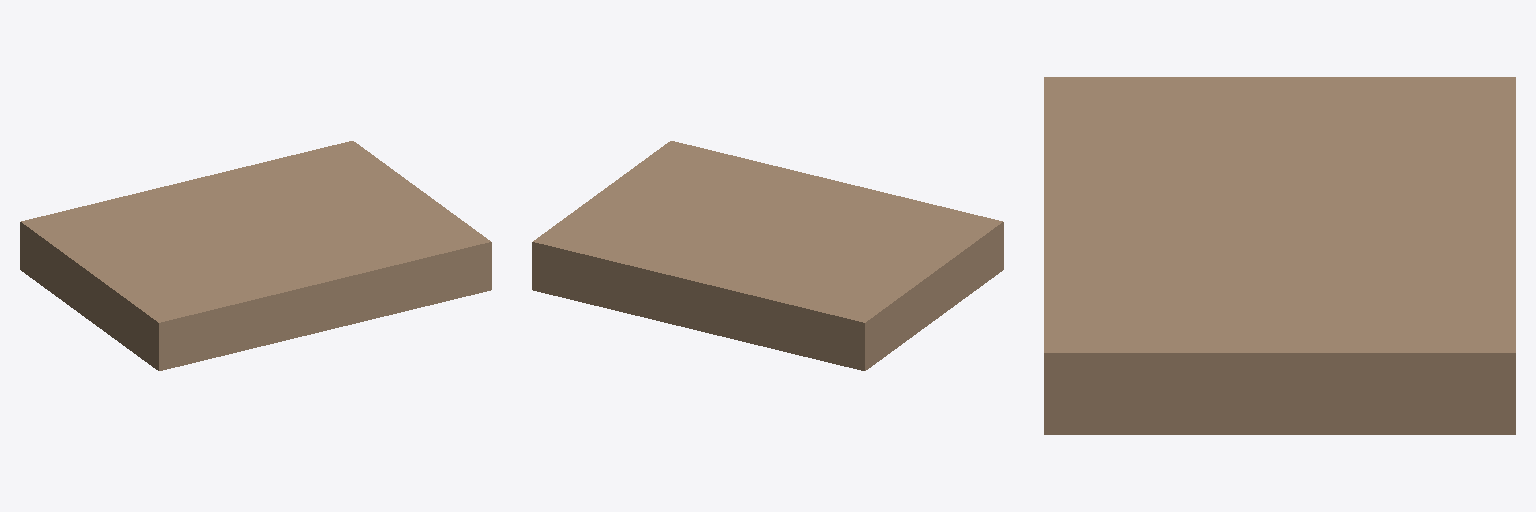
The robot description file, URDF, robot "box.urdf":
<?xml version="1.0" ?>
<robot name="box.urdf">
  <link name="baseLink">
    <contact>
      <lateral_friction value="1.0"/>
      <rolling_friction value="0.0001"/>
      <inertia_scaling value="3.0"/>
    </contact>
    <inertial>
      <origin rpy="0 0 0" xyz="0 0 0"/>
       <mass value="0.1"/>
       <inertia ixx="1" ixy="0" ixz="0" iyy="1" iyz="0" izz="1"/>
    </inertial>
    <visual>
      <origin rpy="0 0 0" xyz="0 0 0"/>
      <geometry>
        <!-- <box size="0.86 0.62 0.12"/> -->
        <mesh filename="box/box.obj" scale="0.86 0.62 0.12"/>
      </geometry>
      <material name="white">
        <color rgba="0.7 0.6 0.5 1"/>
      </material>
    </visual>
    <collision>
      <origin rpy="0 0 0" xyz="0 0 0"/>
      <geometry>
        <mesh filename="box/box.obj" scale="0.86 0.62 0.12"/>
	 	    <!-- <box size="0.86 0.62 0.12"/> -->
      </geometry>
    </collision>
  </link>
</robot>

--- What the picture shows (computed from the rendered views, not written in the file) ---
The picture shows the robot from 3 angles, left to right: view 1: azimuth 30°, elevation 25°; view 2: azimuth 150°, elevation 25°; view 3: azimuth 270°, elevation 25°; orthographic projection.
Model box.urdf with 1 links and 0 joints (none), rooted at baseLink, posed every joint at zero.
Visible links, largest first — view 1: baseLink; view 2: baseLink; view 3: baseLink.
Boxes of the visible links, x1,y1,x2,y2 form: baseLink: (20,141,491,370); baseLink: (532,141,1003,370); baseLink: (1044,77,1515,434).
Size in the robot's own frame: 0.86 by 0.62 by 0.12 metres.
Meshes: 1 distinct files referenced, 1 mesh visuals loaded (1 OBJ).
